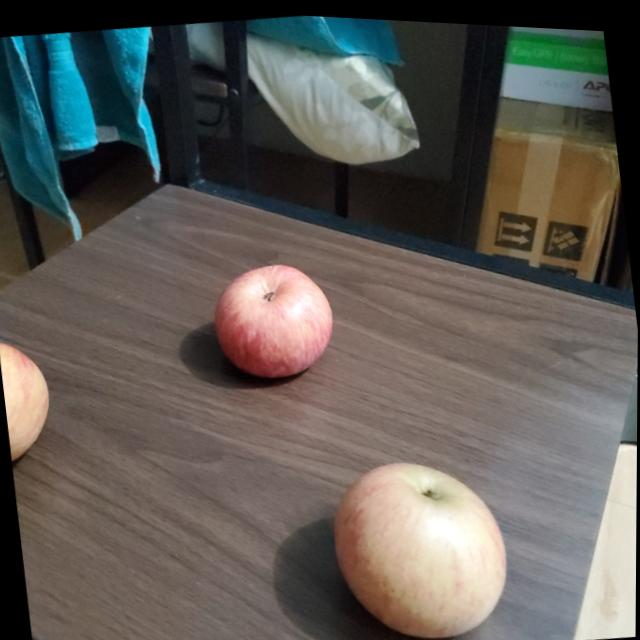apple: (325, 435, 521, 640), (204, 248, 343, 385), (0, 332, 58, 474)
